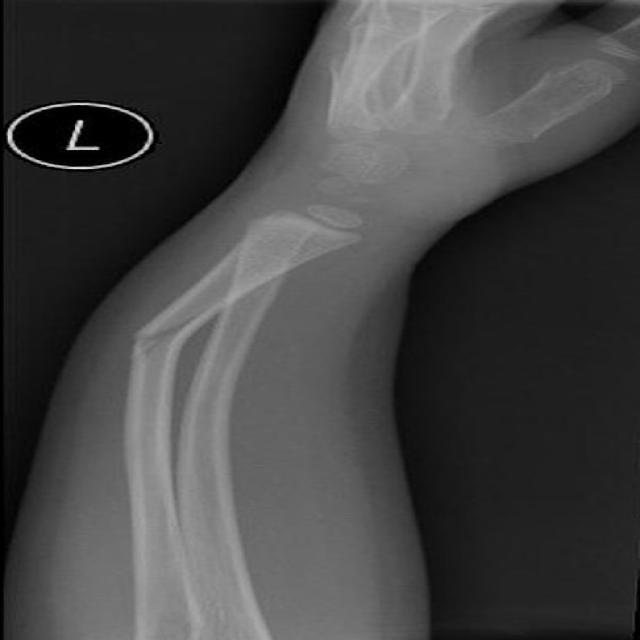fracture: (40, 252, 332, 422)
